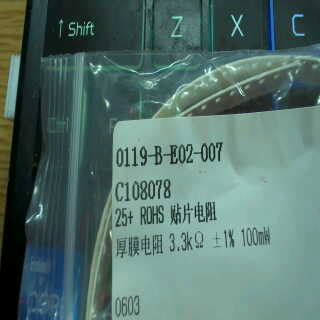3.3kO: (165, 228, 208, 253)
